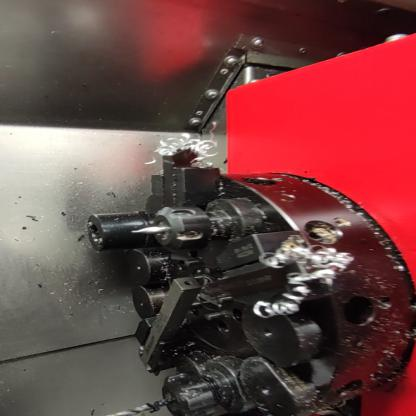bit: (208, 227, 346, 312), (128, 271, 206, 381), (144, 146, 234, 213)
